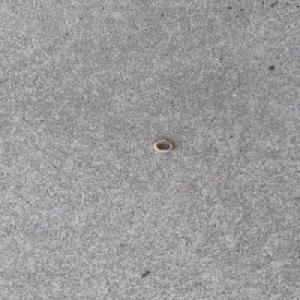Nut: (152, 139, 175, 153)
